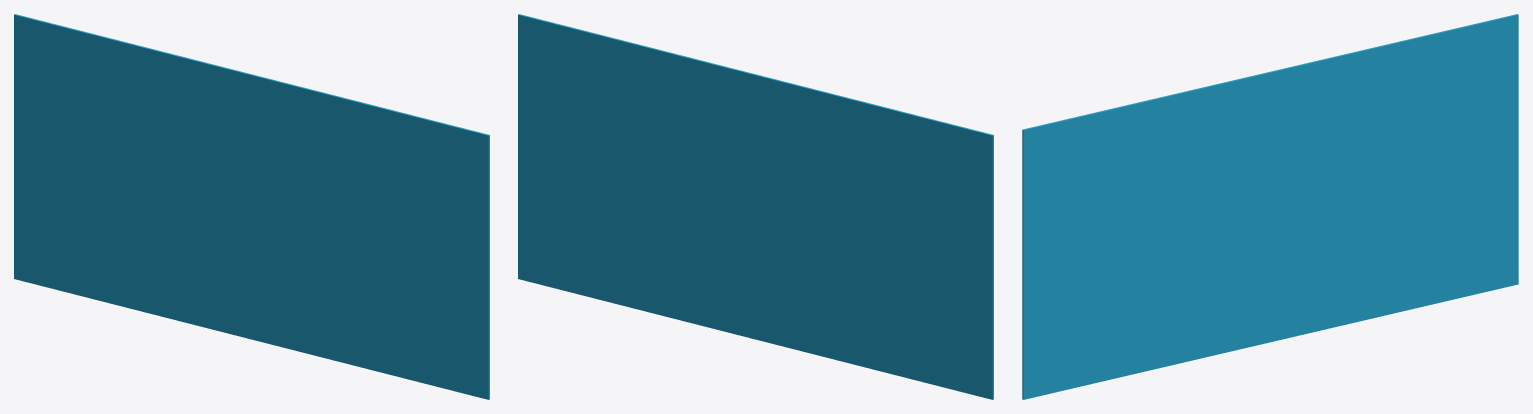
The picture shows the model from 3 angles, left to right: view 1: azimuth 30°, elevation 25°; view 2: azimuth 210°, elevation 25°; view 3: azimuth 270°, elevation 25°; orthographic projection. The views are drawn at different scales.
Parts seen in each view (by area): view 1: Visual_Cube; view 2: Visual_Cube; view 3: Visual_Cube.
Part boxes in pixels (bbox=[...]): Visual_Cube: bbox=[14, 14, 489, 399]; Visual_Cube: bbox=[518, 14, 993, 399]; Visual_Cube: bbox=[1022, 14, 1518, 399].
Bounding box in the file's own units: 244 × 264 × 440.
